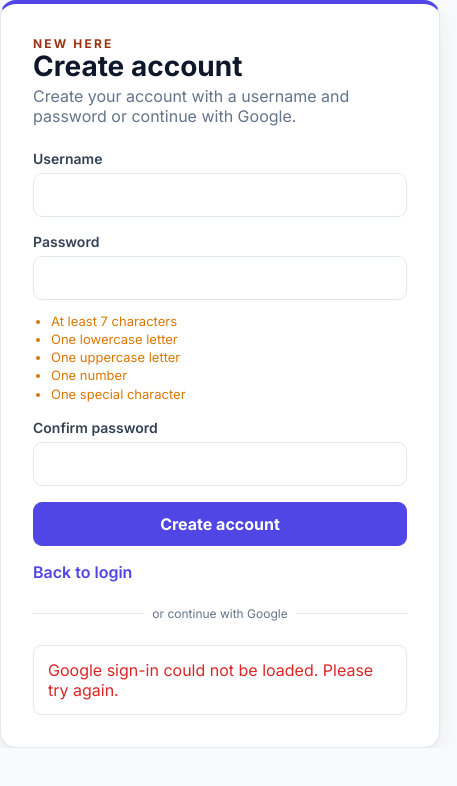
Test: CreateAccountPage › shows a password rule error for weak passwords
This screenshot has width=457, height=786.
Type "demo" into the field labelled "Username" at coordinates (220, 195), box x1=33 y1=173 x2=407 y2=217
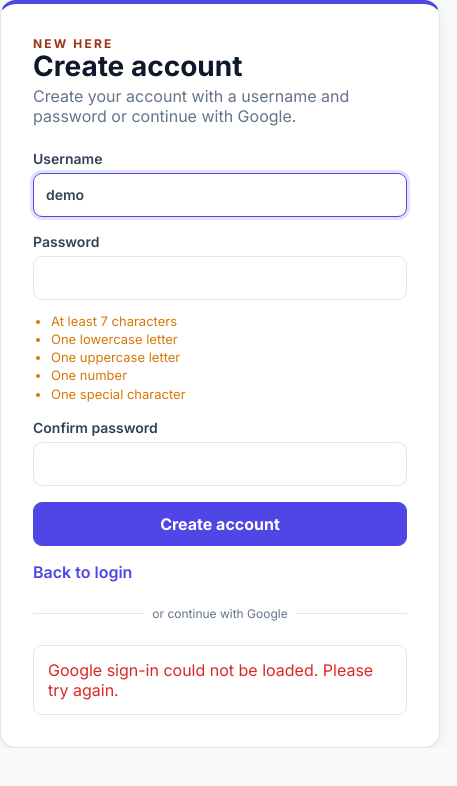
Type "abc123" into the password field labelled "Password" at coordinates (220, 278), box x1=33 y1=256 x2=407 y2=300
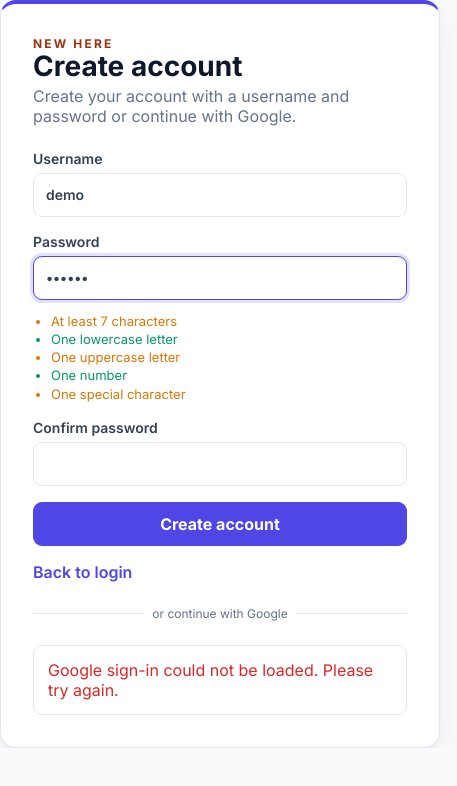
Type "abc123" into the password field labelled "Confirm password" at coordinates (220, 464), box x1=33 y1=442 x2=407 y2=486
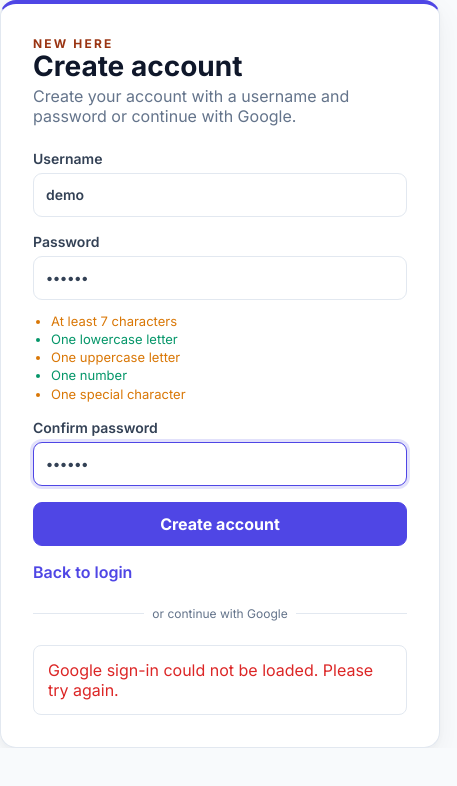
Click the button "Create account" at coordinates (220, 524), box x1=33 y1=502 x2=407 y2=546
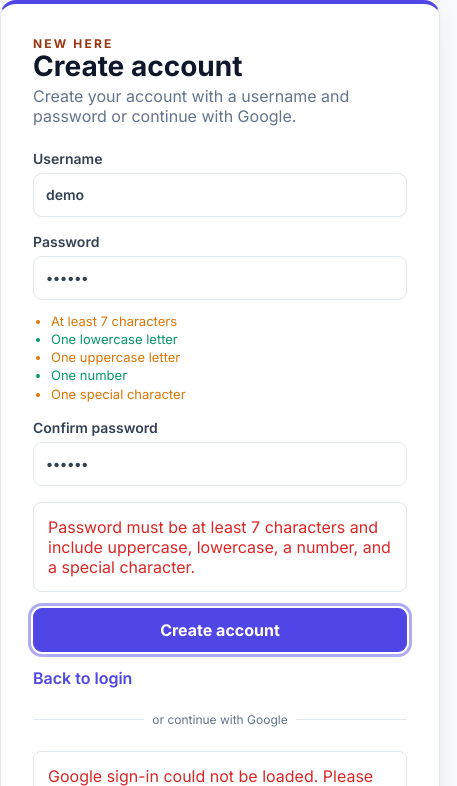
Expected: the text "Password must be at least 7 characters and include uppercase, lowercase, a number, and a special character." is shown, x1=48 y1=517 x2=391 y2=577
